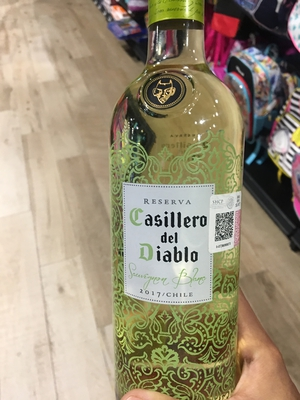casillero del diablo sauvignon blanc: (106, 12, 249, 400)
